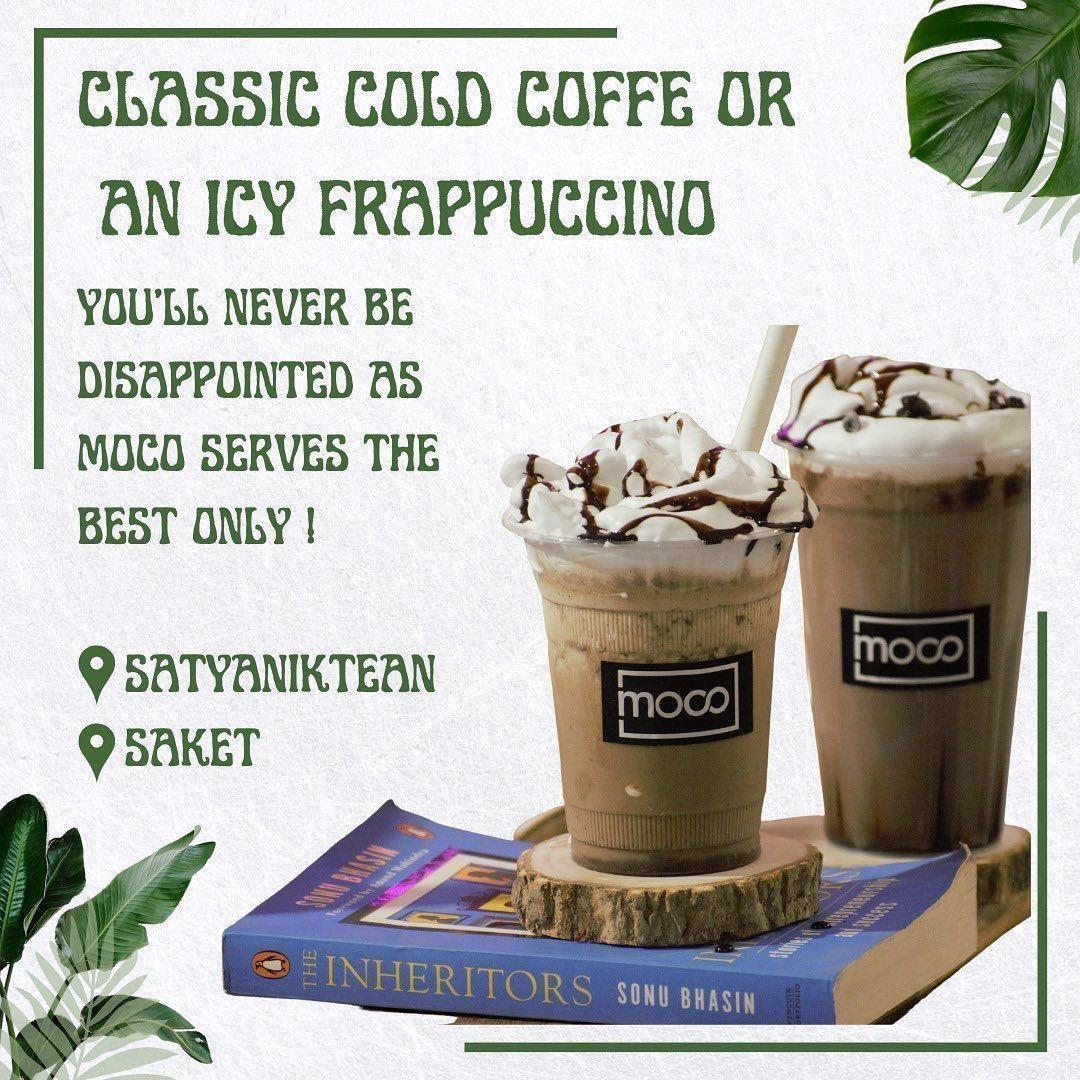cup-disposable: (771, 379, 1038, 858), (500, 468, 810, 873)
